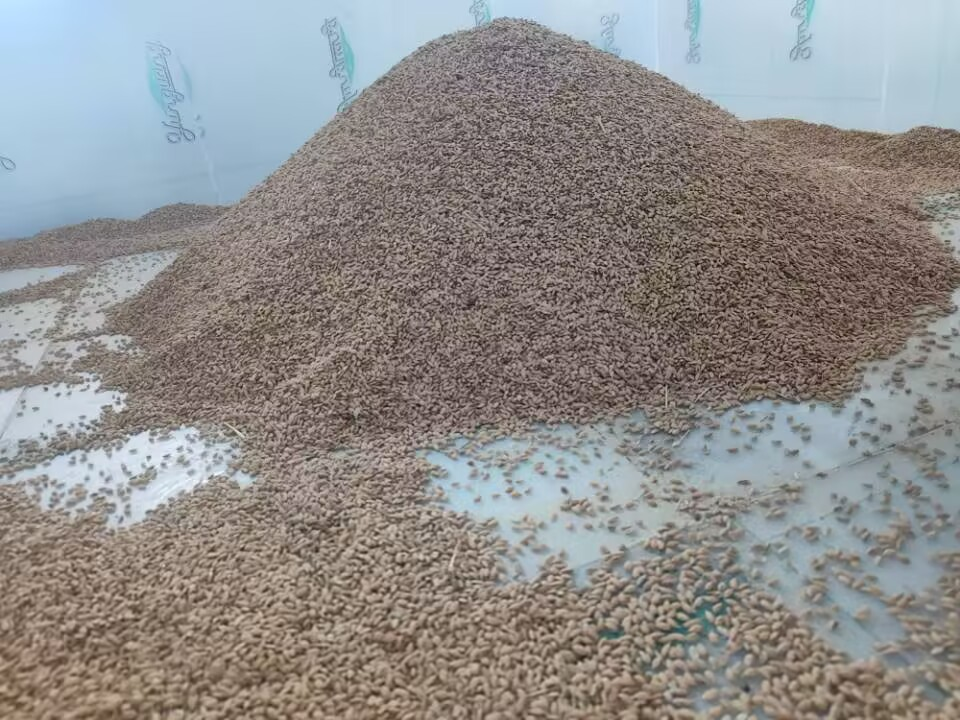Grain: (175, 14, 889, 403)
